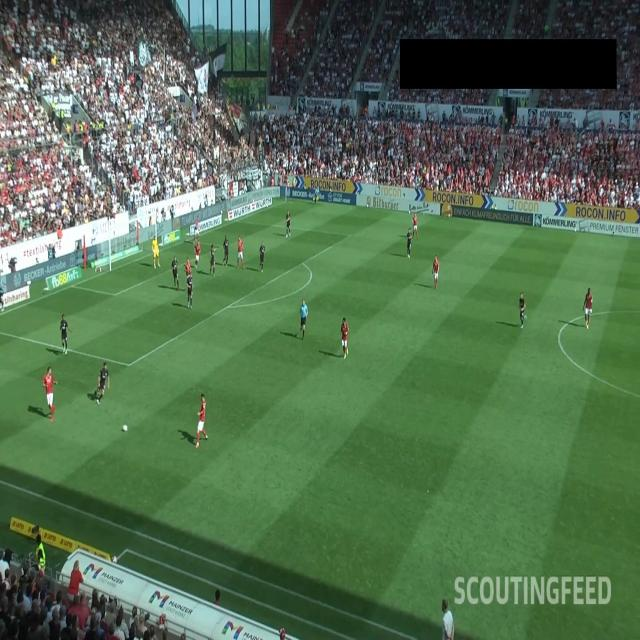ball: (122, 424, 128, 432)
